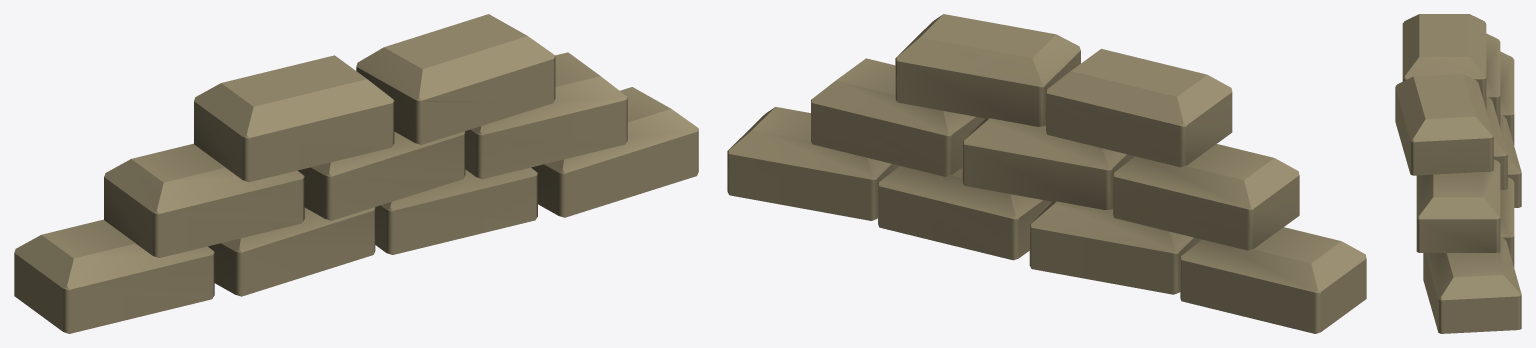
Rendered from sandbag_wall.glb.
3 views of the same model, side by side, from view 1: azimuth 30°, elevation 25°; view 2: azimuth 150°, elevation 25°; view 3: azimuth 270°, elevation 25° (orthographic). The views are drawn at different scales.
Visible parts, largest first — view 1: Body; view 2: Body; view 3: Body.
Part boxes in pixels (bbox=[...]): Body: bbox=[14, 14, 698, 333]; Body: bbox=[727, 14, 1366, 333]; Body: bbox=[1395, 14, 1521, 333].
Size of the model in its own units: 2.46 by 0.7 by 0.5429.
